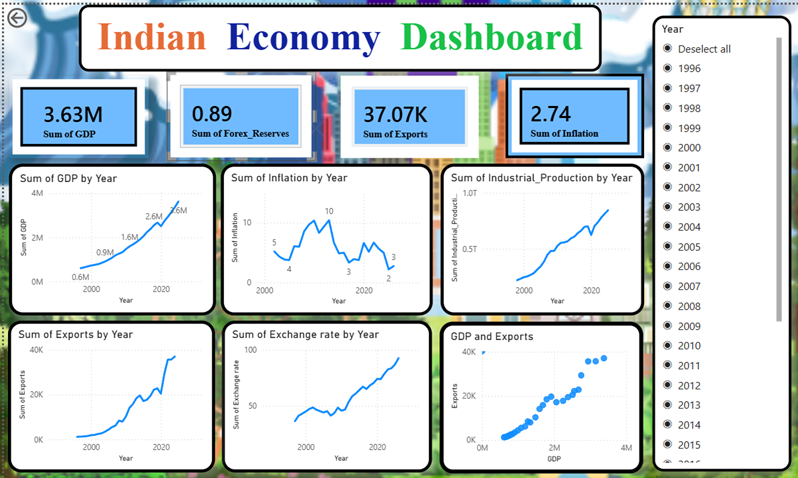

The dashboard page shown, as its layout file describes it:
{"tool":"powerbi","page":{"name":"Page 1","canvas":[1280,720],"ordinal":0},"visuals":[{"type":"cardVisual","fields":{"Data":["Sum(Indian_Economy_Master.GDP)"]},"box":[7.3,108.2,211.8,124.5],"z":0},{"type":"actionButton","box":[0,0,100,40],"z":1000},{"type":"cardVisual","fields":{"Data":["Sum(Indian_Economy_Master.Inflation)"]},"box":[760.9,104.5,210,128.2],"z":2000},{"type":"cardVisual","fields":{"Data":["Sum(Indian_Economy_Master.Exports)"]},"box":[510.8,107.7,209.2,124.6],"z":3000},{"type":"cardVisual","fields":{"Data":["Sum(Indian_Economy_Master.Forex_Reserves)"]},"box":[247.7,101.5,224.6,135.4],"z":4000},{"type":"lineChart","fields":{"Category":["Indian_Economy_Master.Year"],"Y":["Sum(Indian_Economy_Master.GDP)"]},"box":[6.9,241,313.8,230],"z":5000},{"type":"lineChart","fields":{"Category":["Indian_Economy_Master.Year"],"Y":["Sum(Indian_Economy_Master.Inflation)"]},"box":[329.4,241,321.2,230],"z":6000},{"type":"lineChart","fields":{"Category":["Indian_Economy_Master.Year"],"Y":["Sum(Indian_Economy_Master.Exchange rate)"]},"box":[330.7,478.8,318.8,230],"z":7000},{"type":"lineChart","fields":{"Category":["Indian_Economy_Master.Year"],"Y":["Sum(Indian_Economy_Master.Industrial_Production)"]},"box":[662.3,240.6,308.3,230],"z":8000},{"type":"scatterChart","fields":{"X":["Indian_Economy_Master.GDP"],"Y":["Indian_Economy_Master.Exports"]},"box":[660.7,480.1,308.8,230],"z":9000},{"type":"listSlicer","fields":{"Values":["Indian_Economy_Master.Year"]},"box":[983.1,16.9,210.8,690.8],"z":10000},{"type":"lineChart","fields":{"Category":["Indian_Economy_Master.Year"],"Y":["Sum(Indian_Economy_Master.Exports)"]},"box":[5.7,478.8,313.8,230],"z":11000},{"type":"textbox","box":[113.6,0,792.4,101.5],"z":12000}]}

Visuals, with their boxes in screenshot pixels (x1, y1, x2, y2):
cardVisual - Sum(Indian_Economy_Master.GDP): x1=19 y1=84 x2=154 y2=163
actionButton: x1=15 y1=15 x2=78 y2=40
cardVisual - Sum(Indian_Economy_Master.Inflation): x1=500 y1=81 x2=633 y2=163
cardVisual - Sum(Indian_Economy_Master.Exports): x1=340 y1=83 x2=473 y2=163
cardVisual - Sum(Indian_Economy_Master.Forex_Reserves): x1=172 y1=79 x2=316 y2=166
lineChart - Indian_Economy_Master.Year x Sum(Indian_Economy_Master.GDP): x1=19 y1=168 x2=219 y2=315
lineChart - Indian_Economy_Master.Year x Sum(Indian_Economy_Master.Inflation): x1=225 y1=168 x2=429 y2=315
lineChart - Indian_Economy_Master.Year x Sum(Indian_Economy_Master.Exchange rate): x1=225 y1=320 x2=429 y2=466
lineChart - Indian_Economy_Master.Year x Sum(Indian_Economy_Master.Industrial_Production): x1=437 y1=168 x2=633 y2=315
scatterChart - Indian_Economy_Master.GDP x Indian_Economy_Master.Exports: x1=436 y1=321 x2=633 y2=467
listSlicer - Indian_Economy_Master.Year: x1=641 y1=25 x2=776 y2=466
lineChart - Indian_Economy_Master.Year x Sum(Indian_Economy_Master.Exports): x1=18 y1=320 x2=218 y2=466
textbox: x1=87 y1=15 x2=592 y2=79
